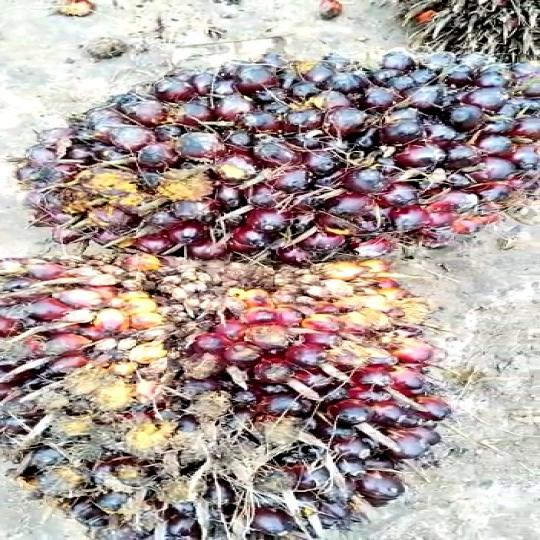kurang masak: (0, 254, 433, 540), (4, 30, 540, 252)
